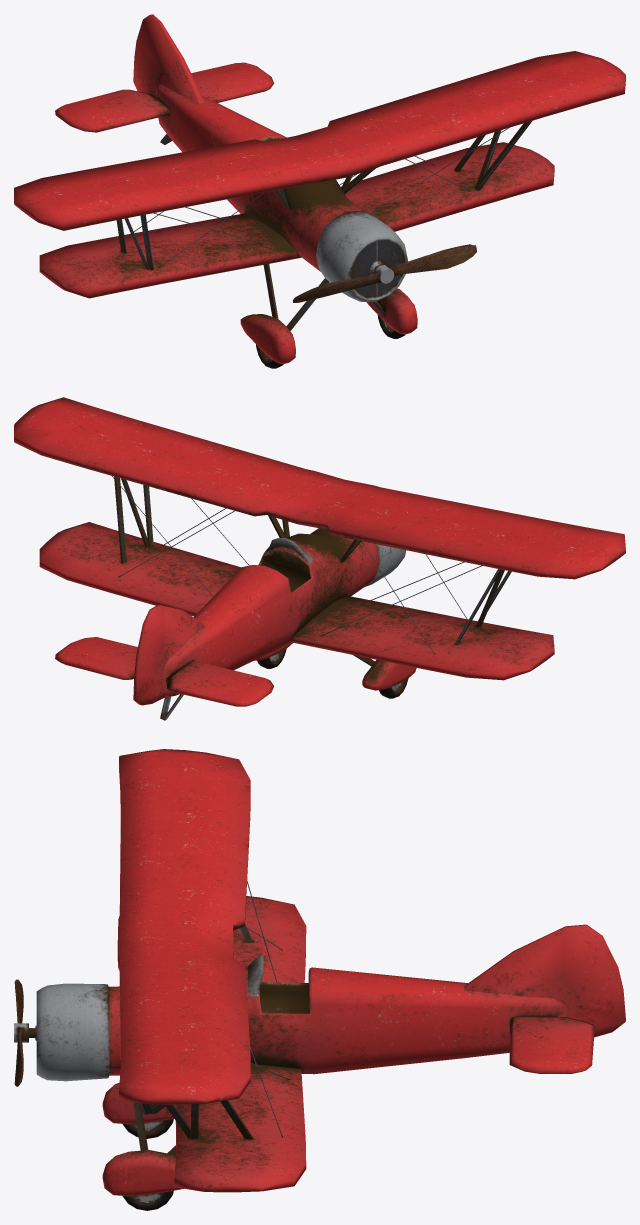
3 renders of one model, top to bottom at view 1: azimuth 30°, elevation 25°; view 2: azimuth 150°, elevation 25°; view 3: azimuth 270°, elevation 25°, orthographic. The views are drawn at different scales.
Parts seen in each view (by area): view 1: biplane, biplane.001, biplane.002, biplane.003; view 2: biplane, biplane.001, biplane.002; view 3: biplane, biplane.001, biplane.002, biplane.003.
Part boxes in pixels (x1,y1,x2,y2): biplane: [14, 51, 625, 298]; biplane.001: [133, 14, 417, 368]; biplane.002: [55, 62, 532, 308]; biplane.003: [293, 244, 476, 302]; biplane: [14, 397, 625, 680]; biplane.001: [133, 528, 416, 720]; biplane.002: [55, 476, 511, 706]; biplane: [117, 749, 306, 1192]; biplane.001: [14, 924, 625, 1210]; biplane.002: [165, 924, 594, 1154]; biplane.003: [14, 979, 23, 1086].
Bounding box in the file's own units: 1607 × 551 × 1196.
